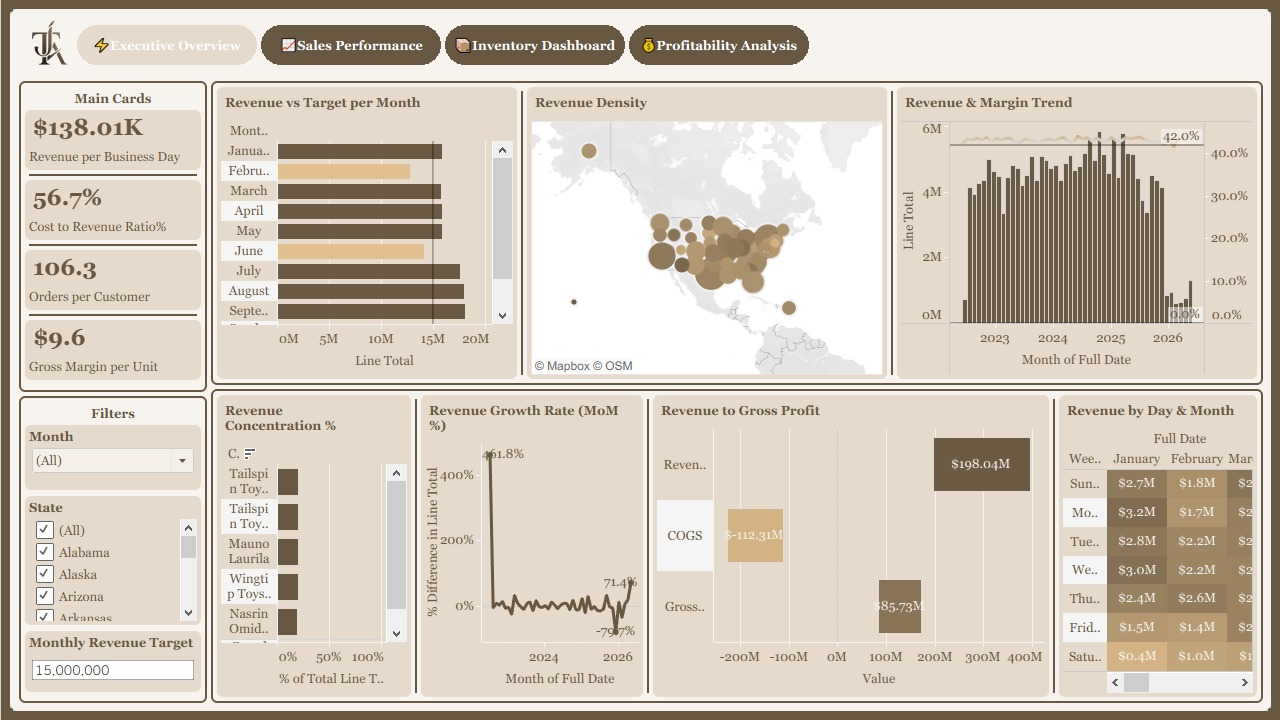

Layout of this report page (visuals, bound fields, positions):
{"tool":"tableau","page":{"name":"Executive Overview","canvas":[1280,720],"ordinal":0},"visuals":[{"type":"dashboard-object","box":[29,13,40,58]},{"type":"dashboard-object","box":[76,25,180,40]},{"type":"dashboard-object","box":[260,25,180,40]},{"type":"dashboard-object","box":[444,25,180,40]},{"type":"dashboard-object","box":[628,25,180,40]},{"type":"text","box":[24,87,176,23]},{"type":"worksheet","title":"p1_Revenue vs Target per Month","mark":"Bar","rows":["FullDate"],"cols":["LineTotal"],"box":[216,87,300,292]},{"type":"blank","box":[516,87,10,292]},{"type":"worksheet","title":"P1_Revenue Density","mark":"Automatic","box":[526,87,360,292]},{"type":"blank","box":[886,87,10,292]},{"type":"worksheet","title":"P1_Revenue & Margin Trend","mark":"Automatic","rows":["LineTotal","Calculation_0776825501143052"],"cols":["FullDate"],"box":[896,87,360,292]},{"type":"worksheet","title":"P1_BAN_RevPerDay","mark":"Text","box":[24,110,176,60]},{"type":"blank","box":[24,170,176,10]},{"type":"worksheet","title":"P1_BAN_CostRatio","mark":"Text","box":[24,180,176,60]},{"type":"blank","box":[24,240,176,10]},{"type":"worksheet","title":"P1_BAN_OrdPerCust","mark":"Text","box":[24,250,176,60]},{"type":"blank","box":[24,310,176,10]},{"type":"worksheet","title":"P1_BAN_GrossMarginPerUnit","mark":"Text","box":[24,320,176,60]},{"type":"worksheet","title":"P1_Top5_Concentration","mark":"Automatic","rows":["CustomerName"],"cols":["LineTotal"],"box":[216,395,194,302]},{"type":"blank","box":[410,395,10,302]},{"type":"worksheet","title":"P1_Revenue Growth Rate (MoM %)","mark":"Automatic","rows":["LineTotal"],"cols":["FullDate"],"box":[420,395,222,302]},{"type":"blank","box":[642,395,10,302]},{"type":"worksheet","title":"P1_Revenue to Gross Profit","mark":"GanttBar","box":[652,395,396,302]},{"type":"blank","box":[1048,395,10,302]},{"type":"worksheet","title":"P1_Revenue by Day of Week","mark":"Square","rows":["FullDate"],"cols":["FullDate"],"box":[1058,395,198,302]},{"type":"text","box":[24,402,176,23]},{"type":"filter","title":"p1_Revenue vs Target per Month","param":"[federated.0o3jpeu10ur7xp1cywqy11o6zgvm].[mn:FullDate:ok]","box":[24,425,176,65]},{"type":"filter","title":"P1_Revenue Density","param":"[federated.0o3jpeu10ur7xp1cywqy11o6zgvm].[none:State:nk]","box":[24,490,176,135]},{"type":"parameter","param":"[Parameters].[Parameter 1]","box":[24,625,176,67]}]}

Visuals, with their boxes in screenshot pixels (x1, y1, x2, y2), scaled from the page's 1280x720 canvas onto the 1280x720 screenshot:
dashboard-object: detection(29, 13, 69, 71)
dashboard-object: detection(76, 25, 256, 65)
dashboard-object: detection(260, 25, 440, 65)
dashboard-object: detection(444, 25, 624, 65)
dashboard-object: detection(628, 25, 808, 65)
text: detection(24, 87, 200, 110)
"p1_Revenue vs Target per Month" worksheet (Bar marks): detection(216, 87, 516, 379)
blank: detection(516, 87, 526, 379)
"P1_Revenue Density" worksheet: detection(526, 87, 886, 379)
blank: detection(886, 87, 896, 379)
"P1_Revenue & Margin Trend" worksheet: detection(896, 87, 1256, 379)
"P1_BAN_RevPerDay" worksheet (Text marks): detection(24, 110, 200, 170)
blank: detection(24, 170, 200, 180)
"P1_BAN_CostRatio" worksheet (Text marks): detection(24, 180, 200, 240)
blank: detection(24, 240, 200, 250)
"P1_BAN_OrdPerCust" worksheet (Text marks): detection(24, 250, 200, 310)
blank: detection(24, 310, 200, 320)
"P1_BAN_GrossMarginPerUnit" worksheet (Text marks): detection(24, 320, 200, 380)
"P1_Top5_Concentration" worksheet: detection(216, 395, 410, 697)
blank: detection(410, 395, 420, 697)
"P1_Revenue Growth Rate (MoM %)" worksheet: detection(420, 395, 642, 697)
blank: detection(642, 395, 652, 697)
"P1_Revenue to Gross Profit" worksheet (GanttBar marks): detection(652, 395, 1048, 697)
blank: detection(1048, 395, 1058, 697)
"P1_Revenue by Day of Week" worksheet (Square marks): detection(1058, 395, 1256, 697)
text: detection(24, 402, 200, 425)
"p1_Revenue vs Target per Month" filter: detection(24, 425, 200, 490)
"P1_Revenue Density" filter: detection(24, 490, 200, 625)
parameter: detection(24, 625, 200, 692)
